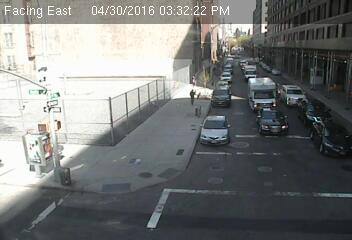neg: (52, 161, 74, 190), (246, 82, 263, 105)
pos: (186, 85, 202, 107)
